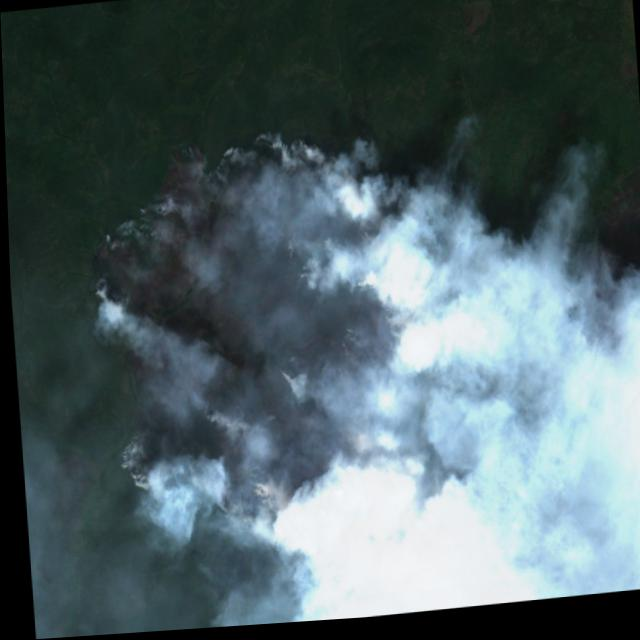fire: (80, 111, 426, 627)
